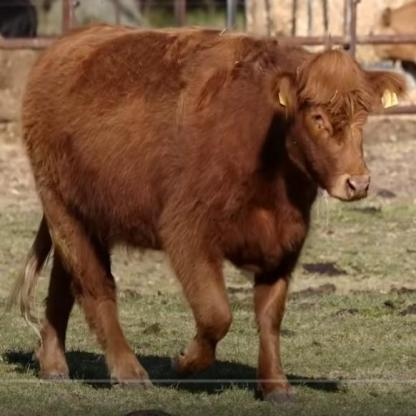cow: (25, 29, 407, 401)
